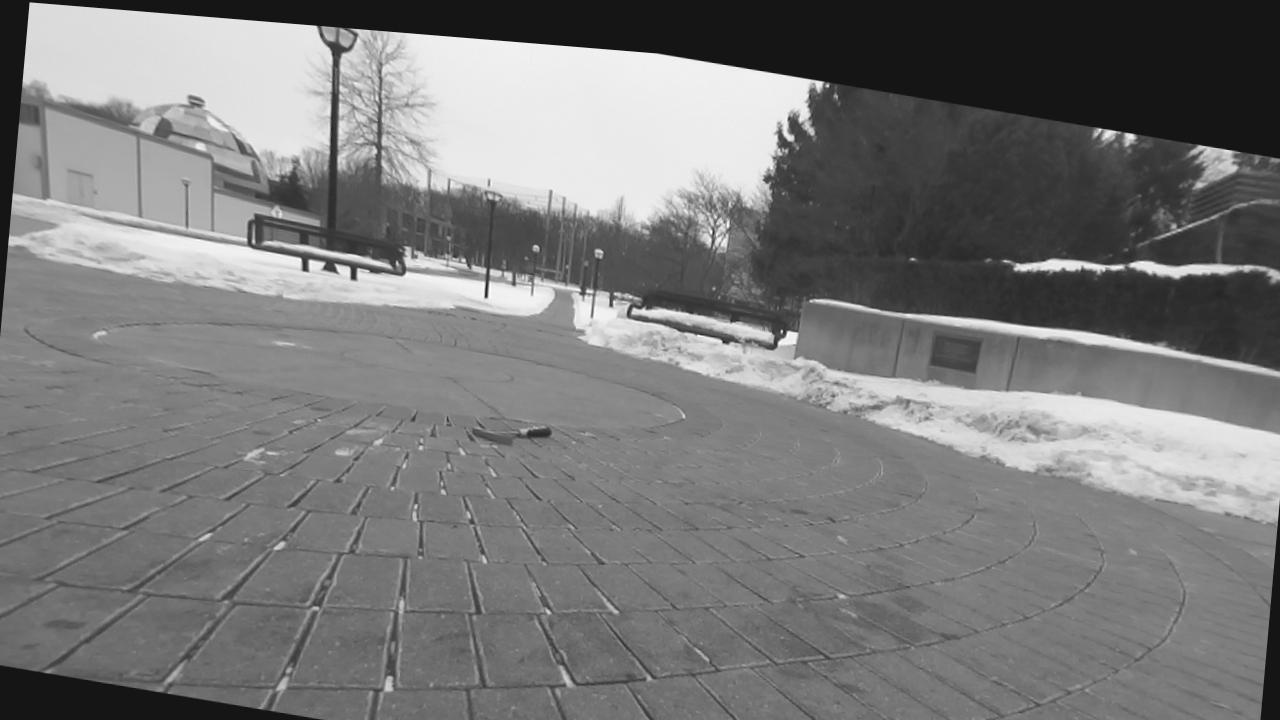pick: (471, 426, 551, 443)
